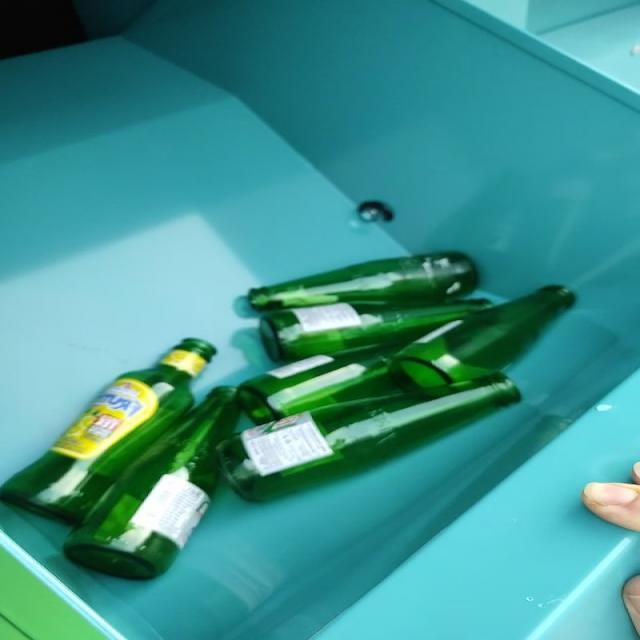Glass: (1, 252, 576, 580)
